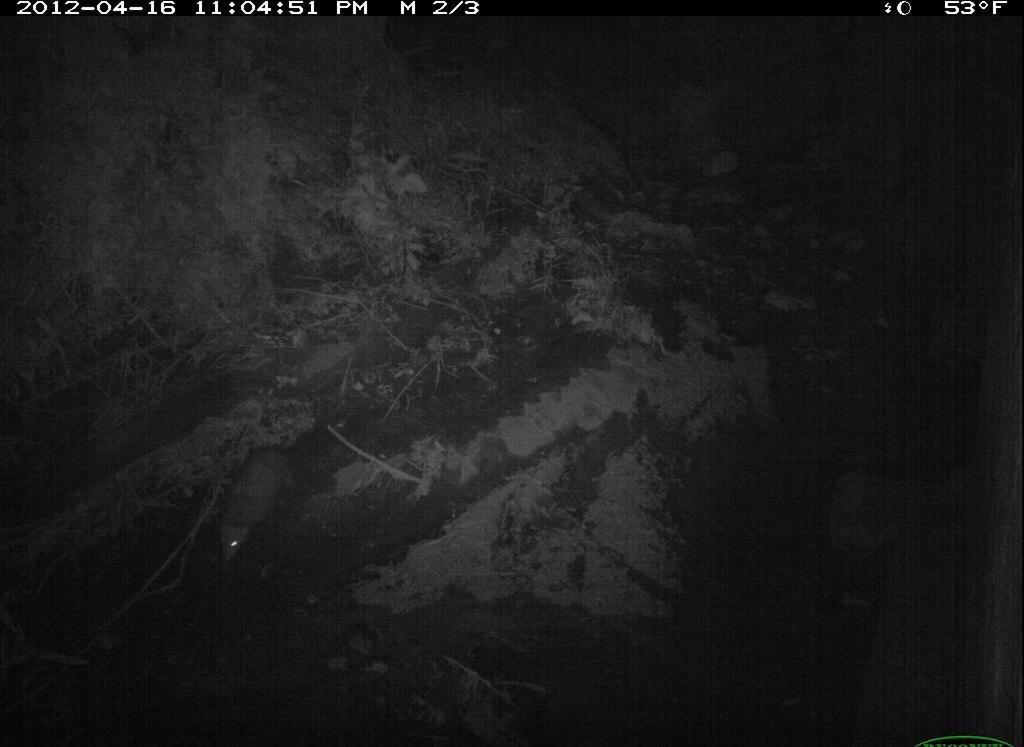opossum: (189, 431, 328, 593)
